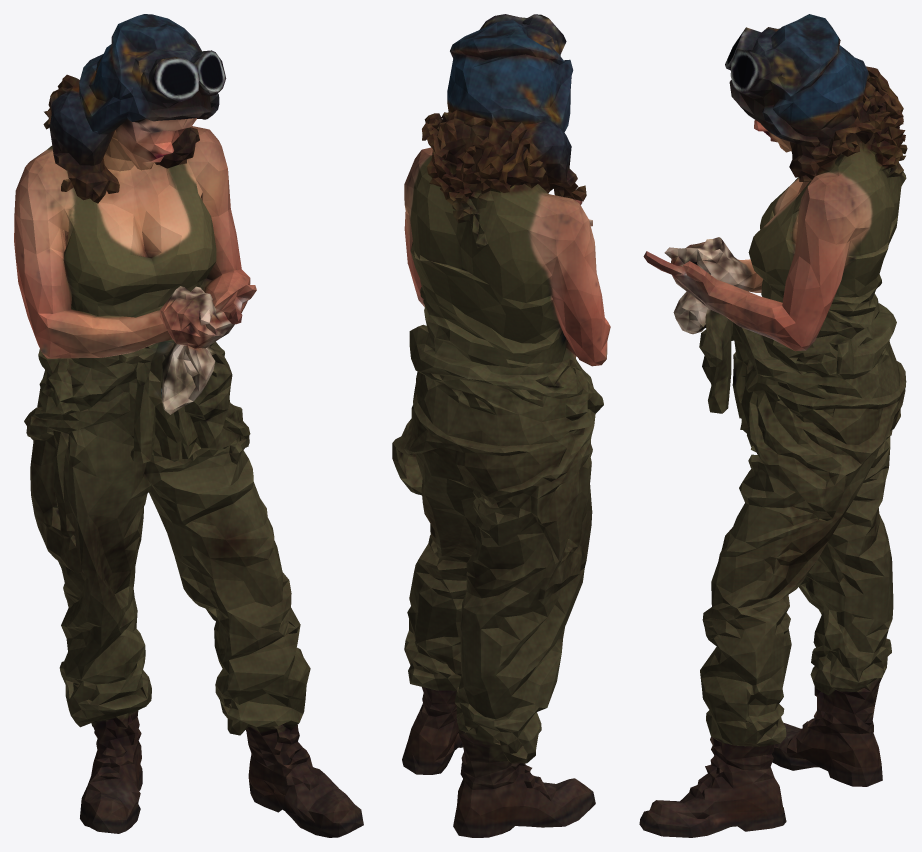
The model's file is crew_us_driver_4_idle.glb.
The picture shows the model from 3 angles, left to right: view 1: azimuth 30°, elevation 25°; view 2: azimuth 150°, elevation 25°; view 3: azimuth 270°, elevation 25°; orthographic projection. The views are drawn at different scales.
Visible parts, largest first — view 1: geometry_0; view 2: geometry_0; view 3: geometry_0.
Part boxes in pixels (<box>): geometry_0: <box>14,14,363,837</box>; geometry_0: <box>392,14,610,837</box>; geometry_0: <box>639,14,907,837</box>.
Bounding box in the file's own units: 0.3357 × 1 × 0.3214.
1 material, 1 textured.
